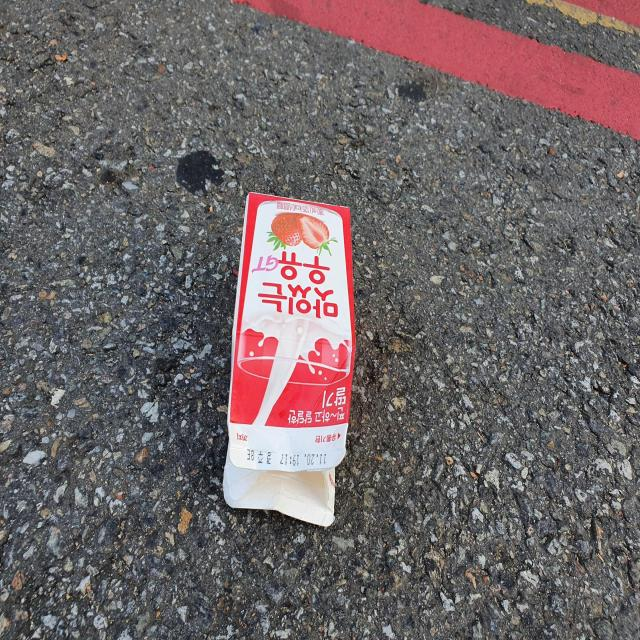paperpack: (223, 192, 355, 527)
